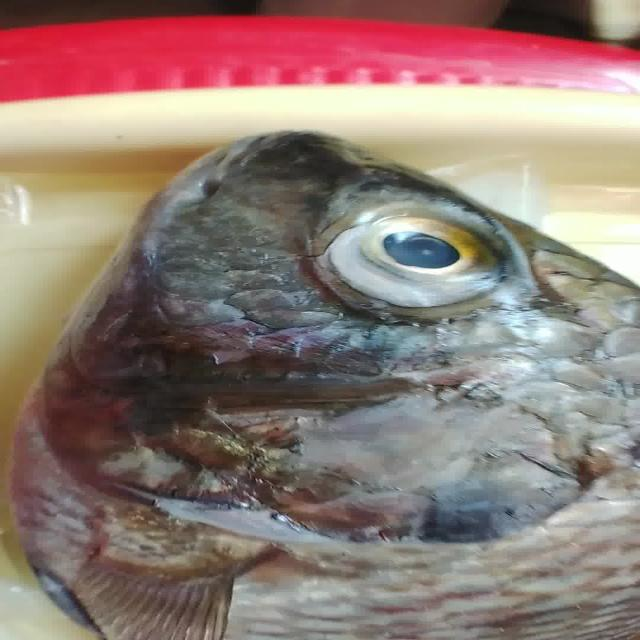Fresh: (298, 187, 544, 327)
